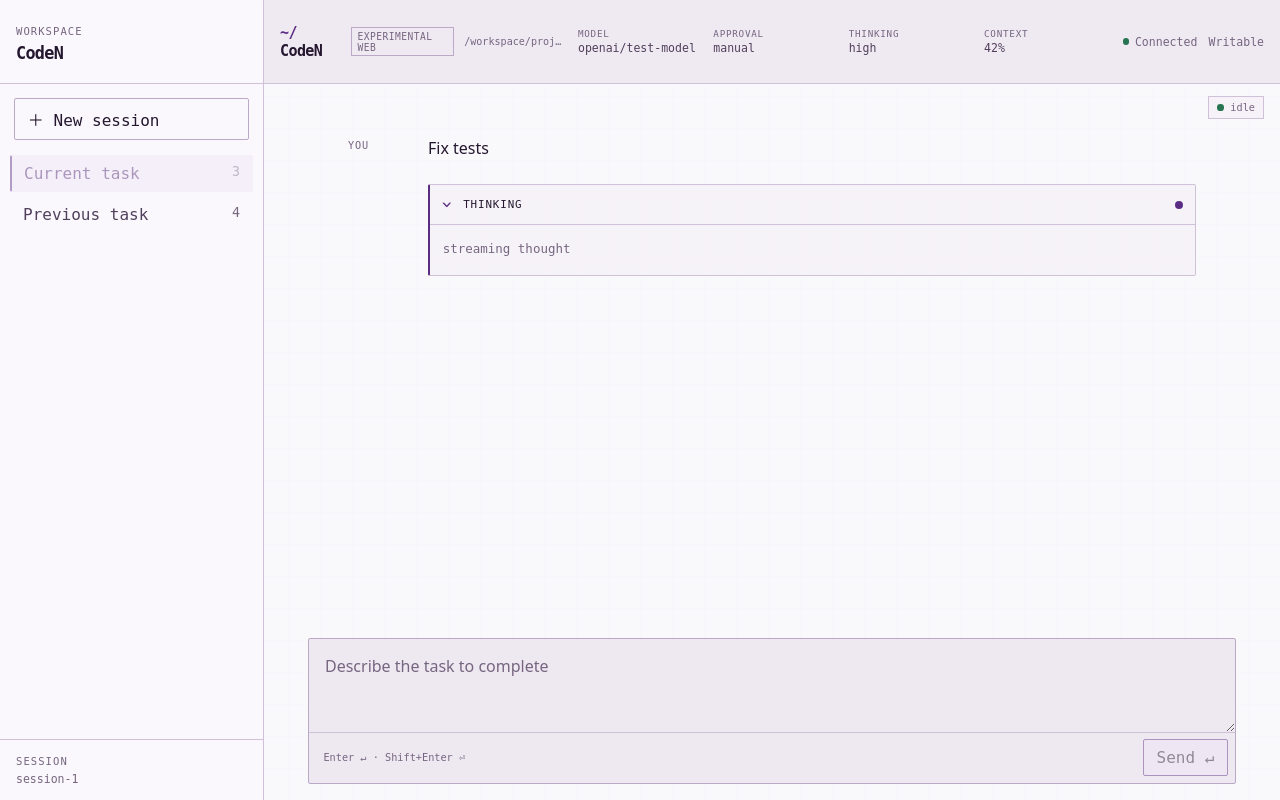
Test: Web App › shows streaming thinking expanded and collapses it when reasoning ends
Check: the text "streaming thought" is shown, box left=443, top=241, right=570, bottom=256
Click the button "› Thinking" at (493, 205), box left=430, top=185, right=1195, bottom=224
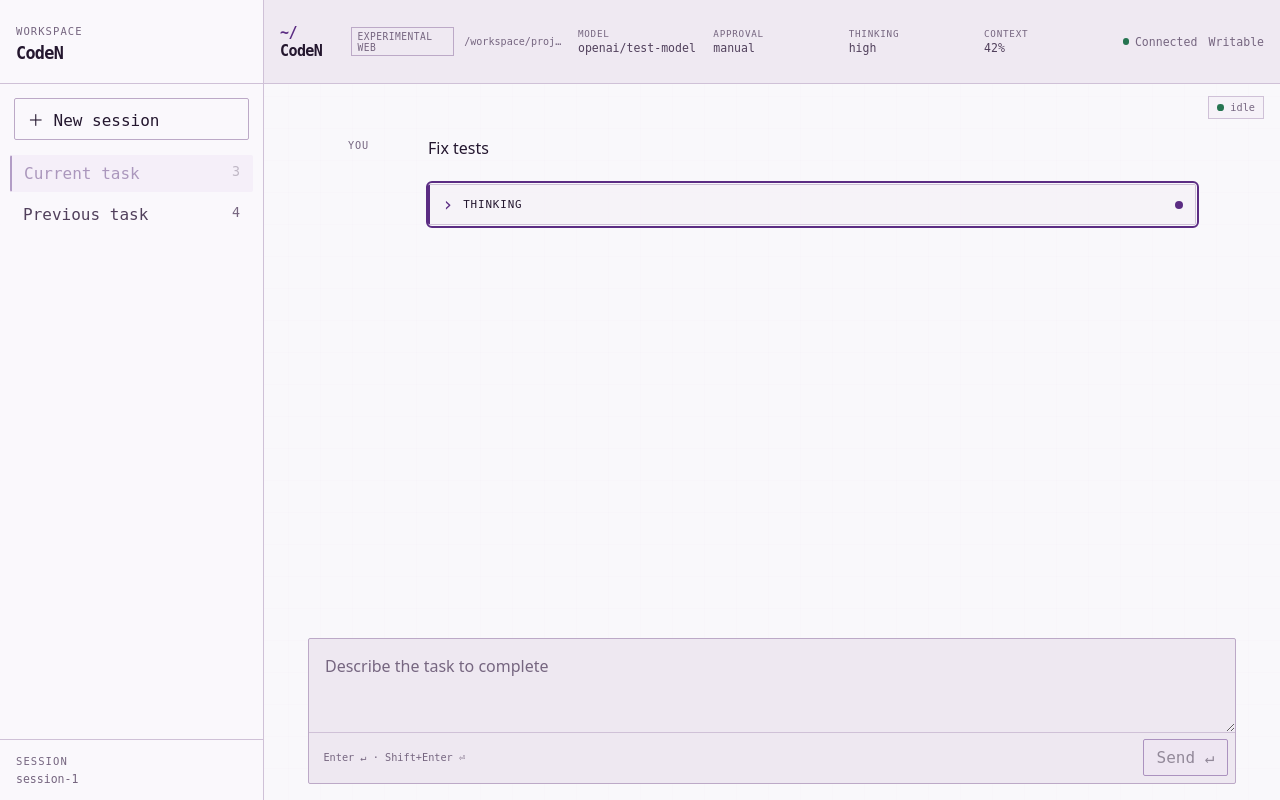
Check: the button "› Thinking" is collapsed, box left=430, top=185, right=1195, bottom=224
Check: the text "streaming thought" is gone
